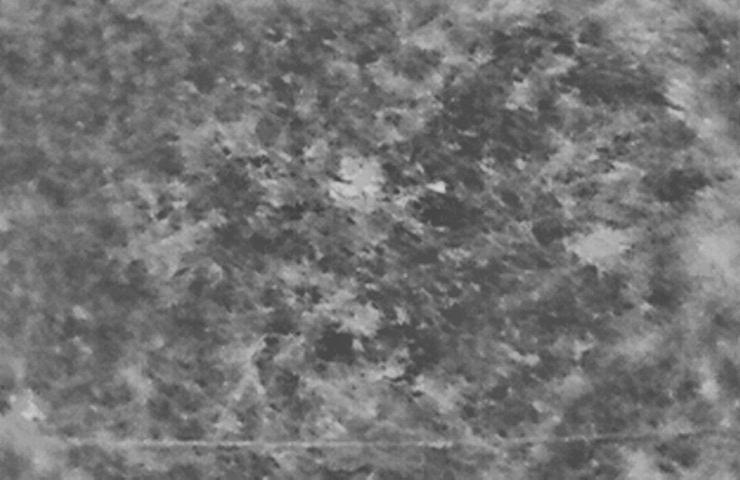landmines: (332, 152, 388, 206)
